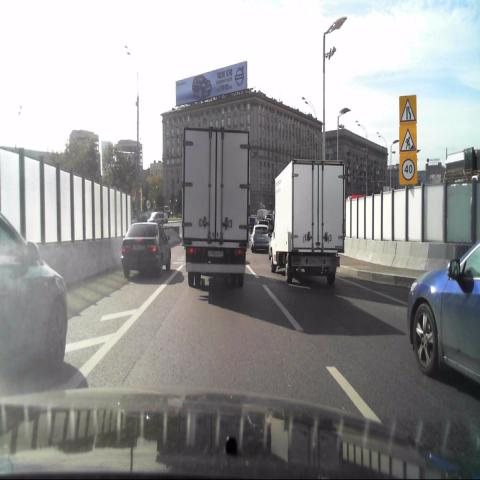3_24: (400, 155, 416, 183)
